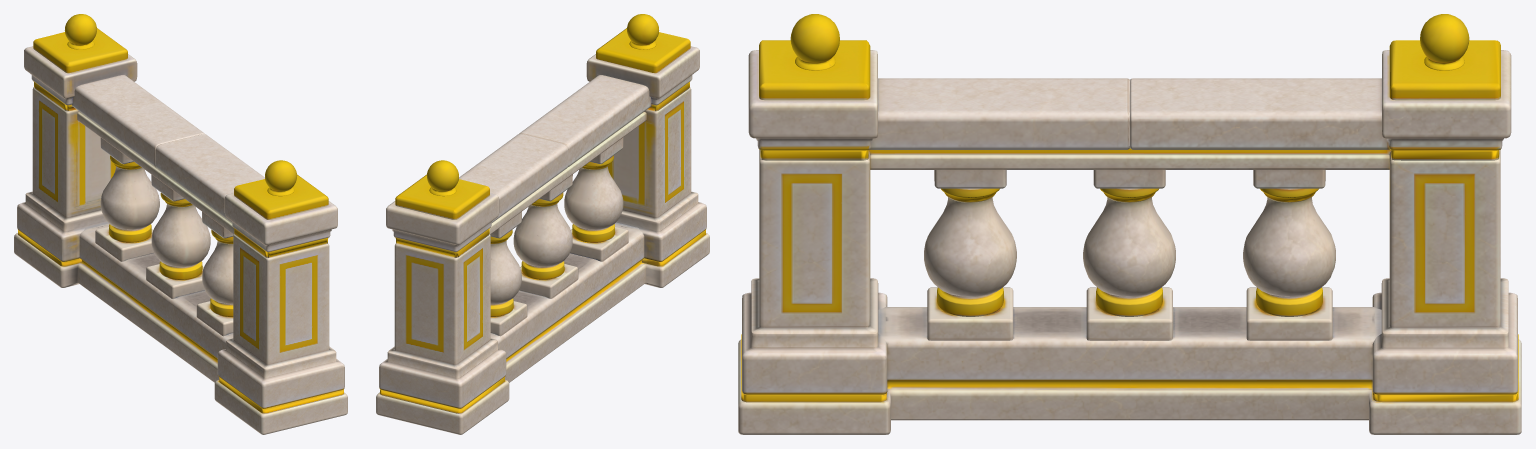
Rendered from HaloVar4_Balustrade_B_SM_tex4k_pbr_src.fbx.
The picture shows the model from 3 angles, left to right: view 1: azimuth 30°, elevation 25°; view 2: azimuth 150°, elevation 25°; view 3: azimuth 270°, elevation 25°; orthographic projection. The views are drawn at different scales.
Parts seen in each view (by area): view 1: tripo_851b6e71_b7c9_4130_8758_405193c933b1; view 2: tripo_851b6e71_b7c9_4130_8758_405193c933b1; view 3: tripo_851b6e71_b7c9_4130_8758_405193c933b1.
Part boxes in pixels (x1,y1,x2,y2): tripo_851b6e71_b7c9_4130_8758_405193c933b1: (14, 14, 347, 434); tripo_851b6e71_b7c9_4130_8758_405193c933b1: (376, 14, 709, 434); tripo_851b6e71_b7c9_4130_8758_405193c933b1: (738, 14, 1521, 434).
Size of the model in its own units: 0.2017 by 0.5444 by 0.9995.
Materials: 1 (1 with a texture image).
